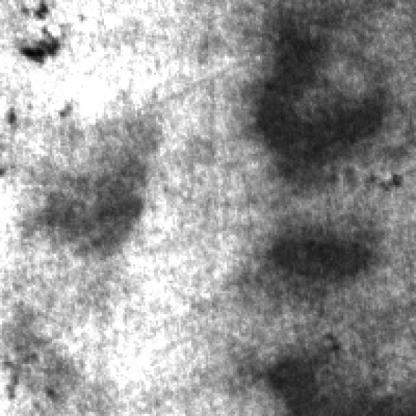patches: (252, 0, 399, 194), (25, 148, 156, 250), (245, 220, 387, 302), (262, 324, 393, 412)
